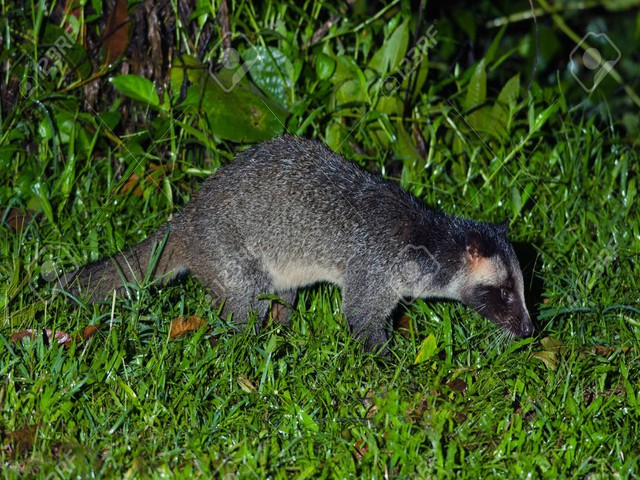civet: (58, 133, 534, 355)
